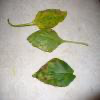Bell_pepper leaf spot: (28, 57, 77, 89), (25, 29, 67, 53), (29, 7, 69, 30)
